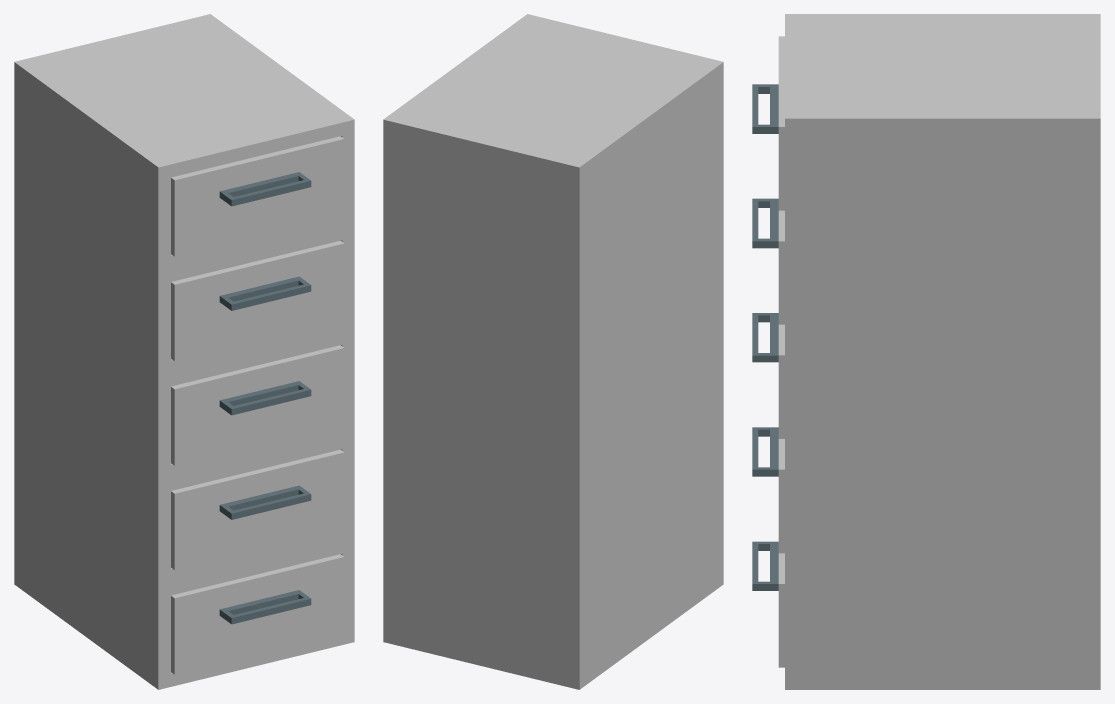
Rendered from CabinetXLargeV1White.fbx.
3 renders of one model, left to right at view 1: azimuth 30°, elevation 25°; view 2: azimuth 150°, elevation 25°; view 3: azimuth 270°, elevation 25°, orthographic. The views are drawn at different scales.
Visible parts, largest first — view 1: CabinetXLargeV1White, CabinetXLargeV1White_Drawer1, CabinetXLargeV1White_Drawer5, CabinetXLargeV1White_Drawer4, CabinetXLargeV1White_Drawer2, CabinetXLargeV1White_Drawer3; view 2: CabinetXLargeV1White; view 3: CabinetXLargeV1White, CabinetXLargeV1White_Drawer1, CabinetXLargeV1White_Drawer2, CabinetXLargeV1White_Drawer5, CabinetXLargeV1White_Drawer4, CabinetXLargeV1White_Drawer3.
Part boxes in pixels (<box>): CabinetXLargeV1White: <box>14,14,354,689</box>; CabinetXLargeV1White_Drawer1: <box>171,136,344,256</box>; CabinetXLargeV1White_Drawer5: <box>171,554,344,674</box>; CabinetXLargeV1White_Drawer4: <box>171,449,344,570</box>; CabinetXLargeV1White_Drawer2: <box>171,240,344,361</box>; CabinetXLargeV1White_Drawer3: <box>171,345,344,465</box>; CabinetXLargeV1White: <box>383,14,723,689</box>; CabinetXLargeV1White: <box>785,14,1100,689</box>; CabinetXLargeV1White_Drawer1: <box>752,36,784,210</box>; CabinetXLargeV1White_Drawer2: <box>752,198,784,324</box>; CabinetXLargeV1White_Drawer5: <box>752,541,784,667</box>; CabinetXLargeV1White_Drawer4: <box>752,427,784,553</box>; CabinetXLargeV1White_Drawer3: <box>752,313,784,438</box>.
Size of the model in its own units: 39.32 by 100 by 55.23.
